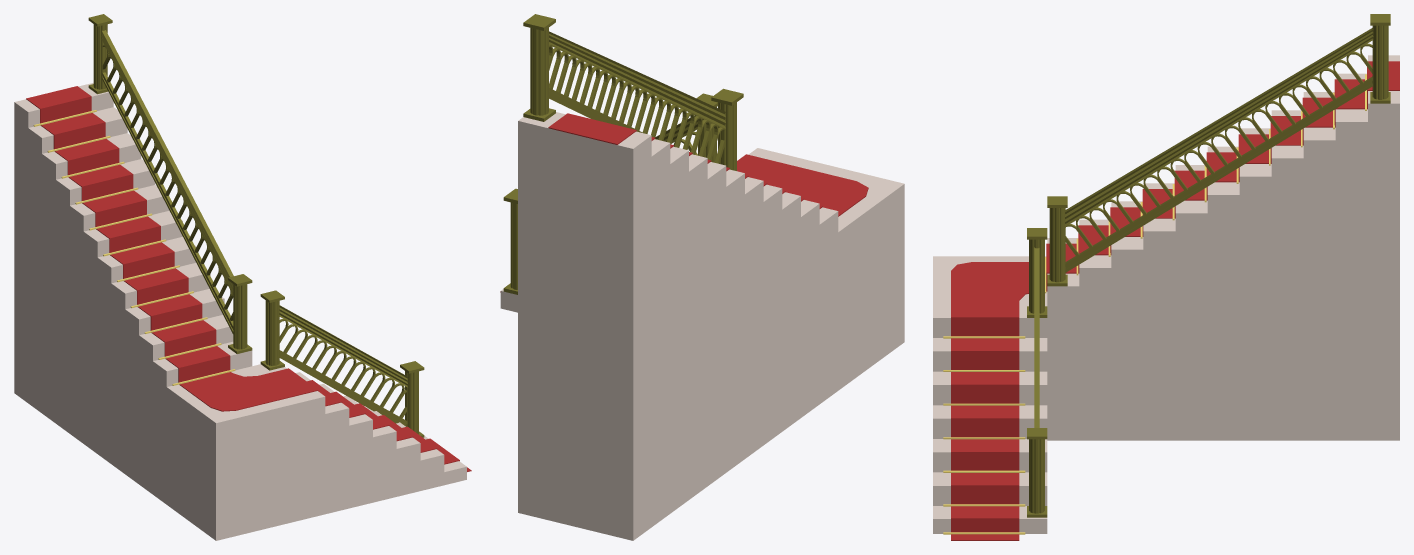
File: Stair_1.fbx
The picture shows the model from 3 angles, left to right: view 1: azimuth 30°, elevation 25°; view 2: azimuth 150°, elevation 25°; view 3: azimuth 270°, elevation 25°; orthographic projection. The views are drawn at different scales.
Parts seen in each view (by area): view 1: Stair_1; view 2: Stair_1; view 3: Stair_1.
Part boxes in pixels (<box>): Stair_1: <box>14,14,471,540</box>; Stair_1: <box>500,14,904,540</box>; Stair_1: <box>933,14,1399,540</box>.
Bounding box in the file's own units: 368 × 489 × 483.
